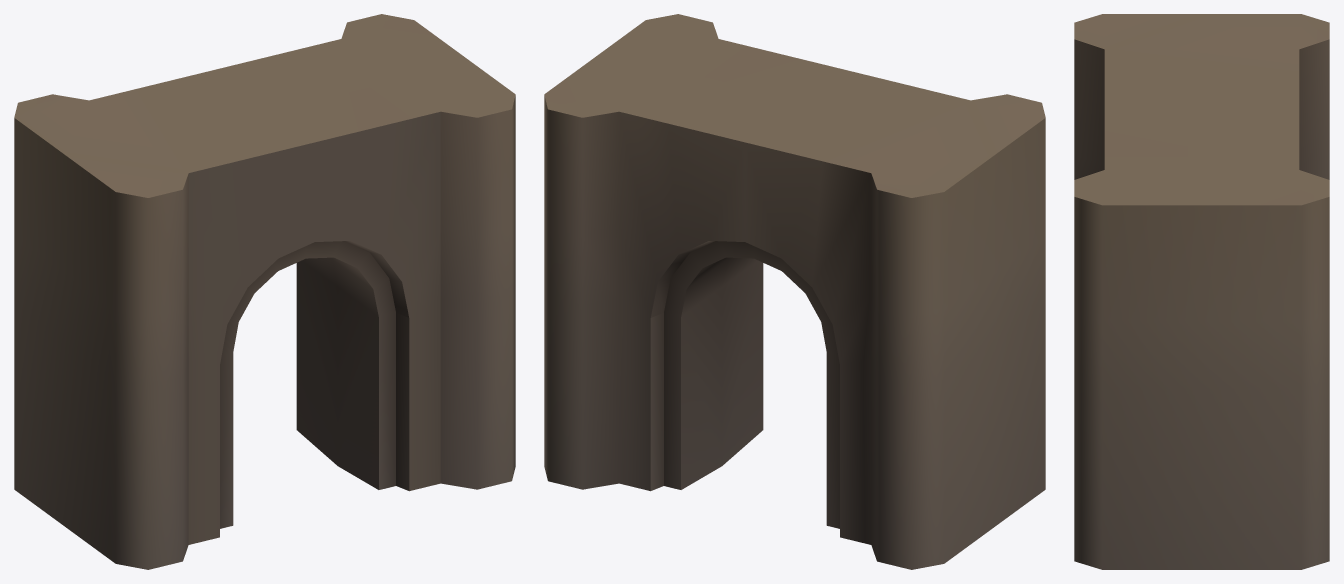
3 views of the same model, side by side, from view 1: azimuth 30°, elevation 25°; view 2: azimuth 150°, elevation 25°; view 3: azimuth 270°, elevation 25° (orthographic).
Visible parts, largest first — view 1: base104; view 2: base104; view 3: base104.
Part boxes in pixels (bbox=[...]): base104: bbox=[14, 14, 515, 569]; base104: bbox=[544, 14, 1045, 569]; base104: bbox=[1074, 14, 1329, 569].
Size of the model in its own units: 0.5 by 0.4513 by 0.2821.
